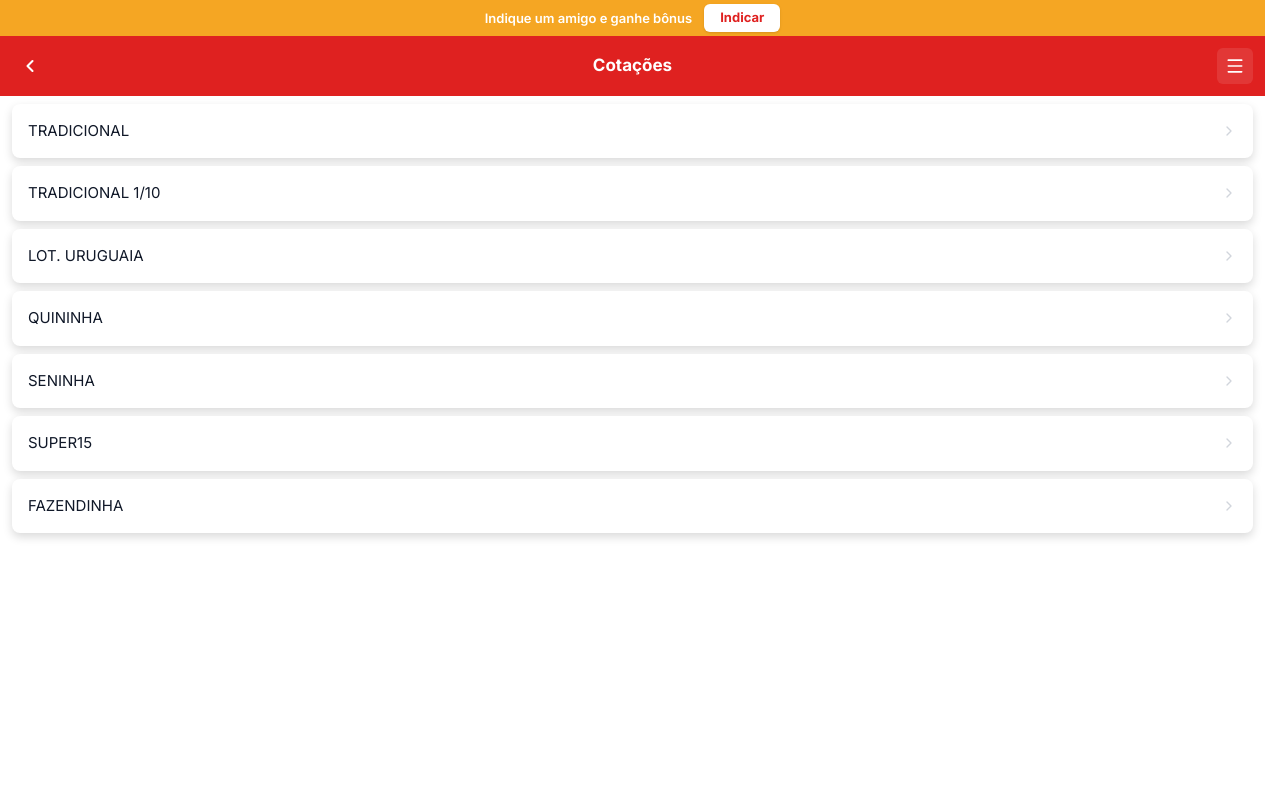
Scenario: Relatórios > Cotações › lista os jogos; os que ainda não existem avisam "em breve"
Expected: the heading "Cotações" is shown, [593, 55, 672, 75]
What coordinates should you click on to do the following:
click the button "QUININHA"
I would click on:
 (65, 318)
Its box is [12, 291, 1253, 346].
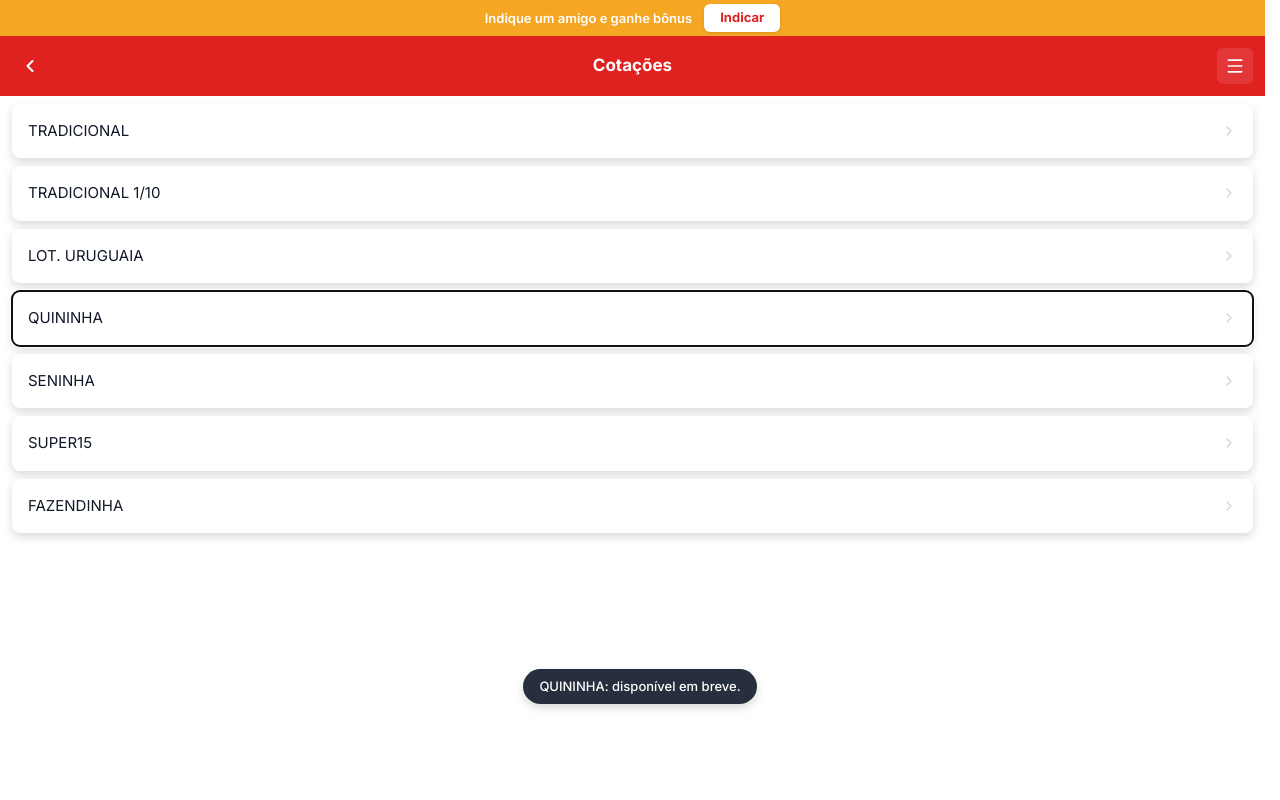
Result: the message reads "QUININHA: disponível em breve." at [539, 678, 741, 694]
